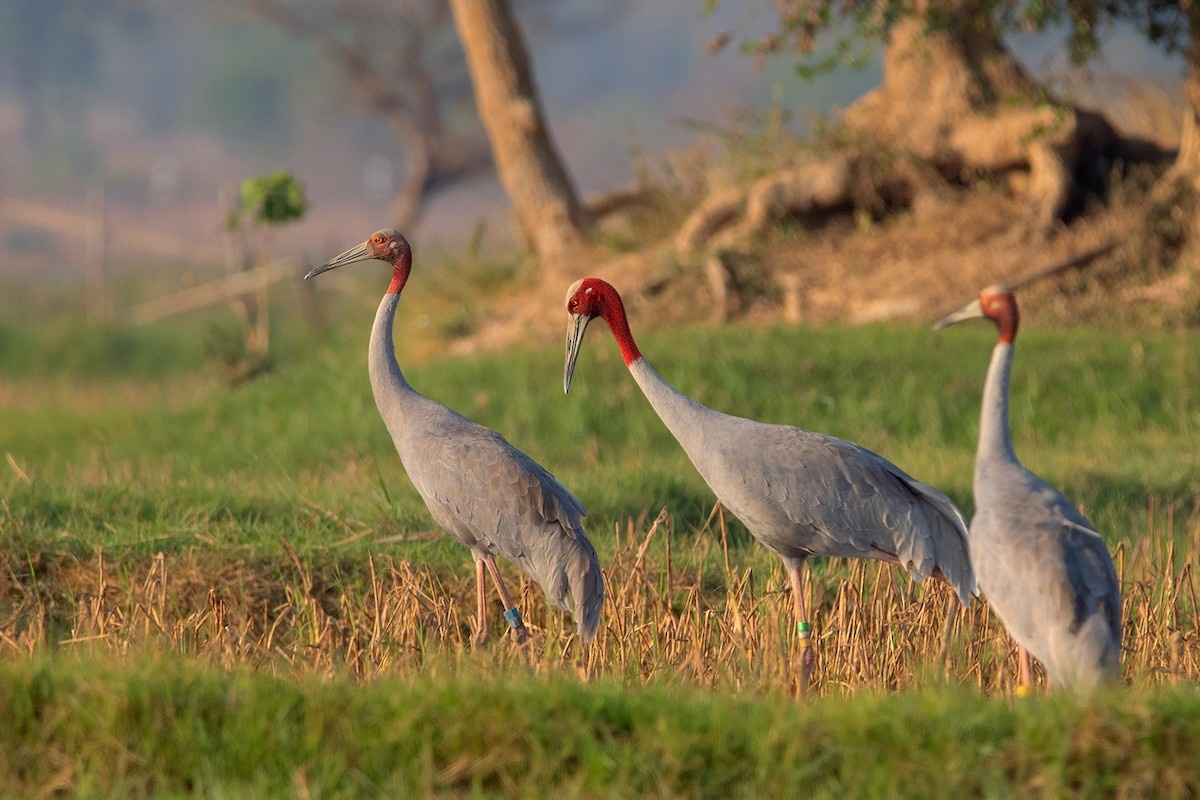crane: (559, 272, 965, 668), (310, 186, 588, 643), (940, 269, 1132, 702)
